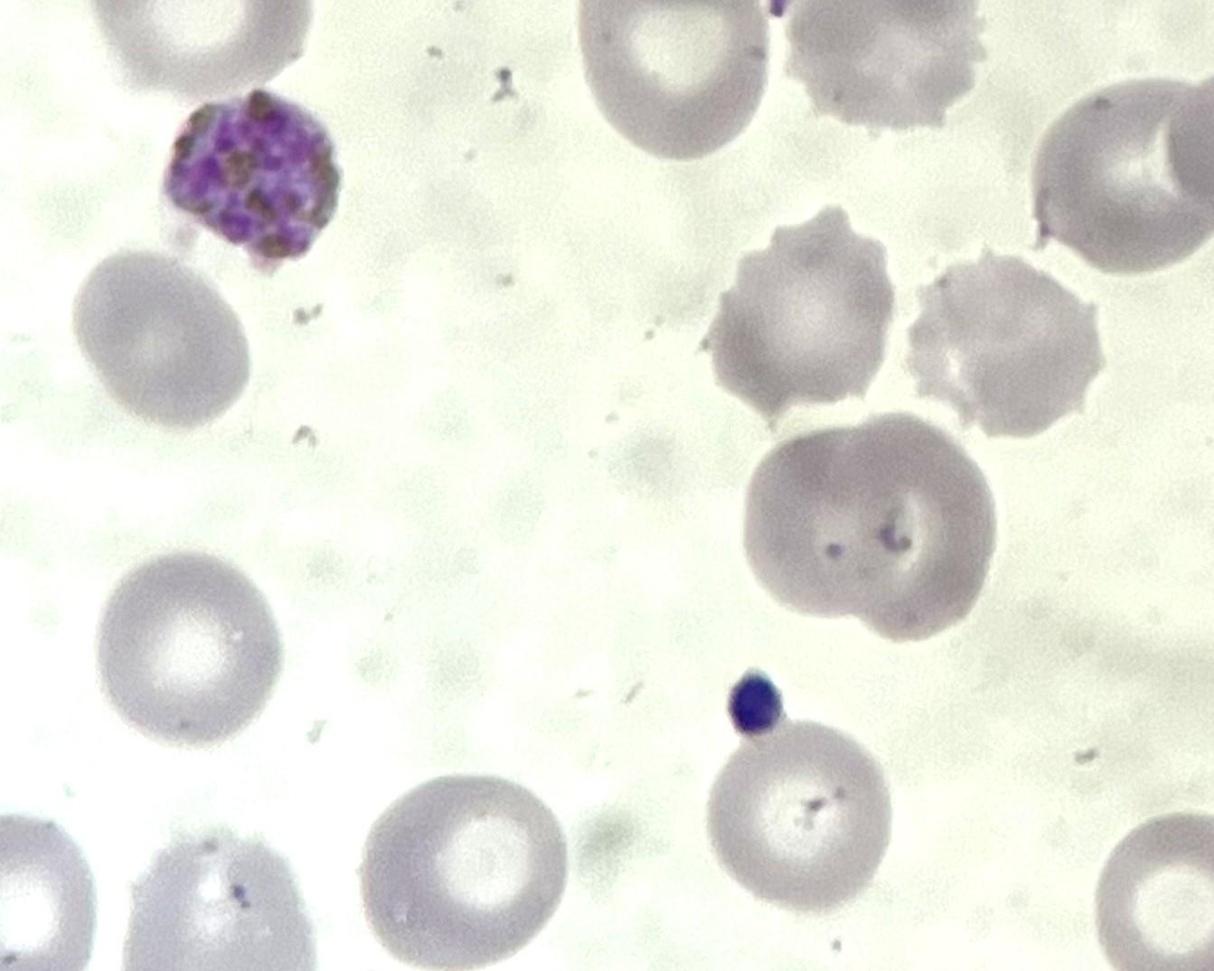Infected: (164, 90, 342, 267)
Uninfected: (742, 415, 993, 636), (707, 204, 896, 421), (355, 773, 565, 965), (1023, 69, 1214, 275), (90, 551, 282, 748), (909, 250, 1100, 436), (70, 249, 253, 431), (707, 726, 889, 909)
